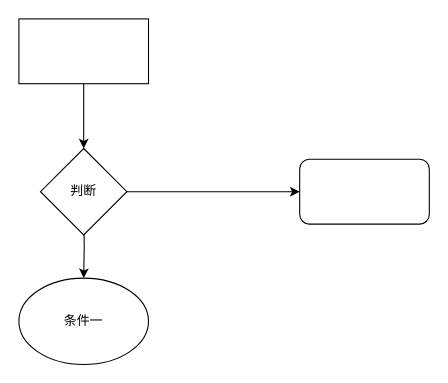
The diagram is 448 pixels wide and 383 high, and some of its shapes have lost their labels. The shapes that lost their labels are listed below. From the top down, each one's centre as x and y in pixels, then its label:
At pixel 83 51: "开始".
At pixel 364 191: "满足条件二".
